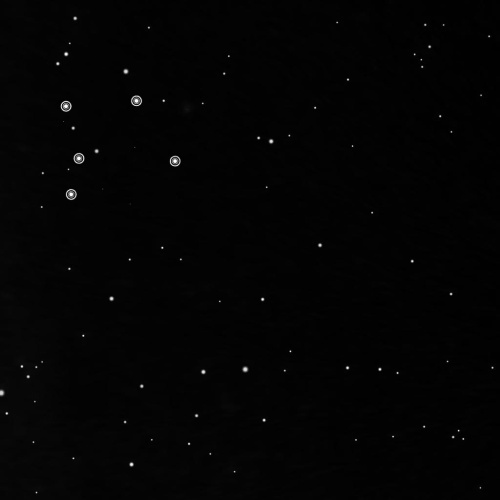libra: (55, 85, 184, 208)
